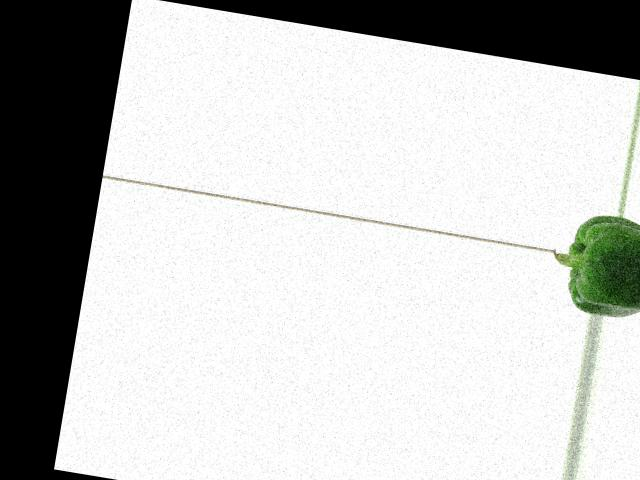bell_pepper: (547, 208, 640, 324)
